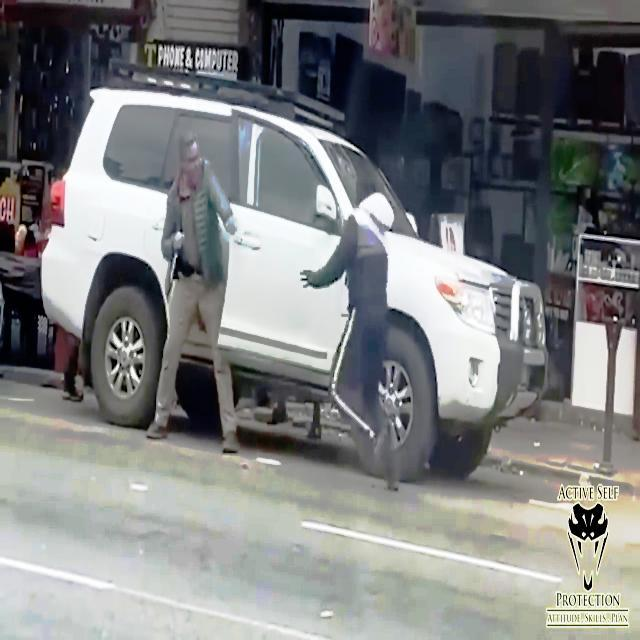Knife: (166, 231, 192, 283)
